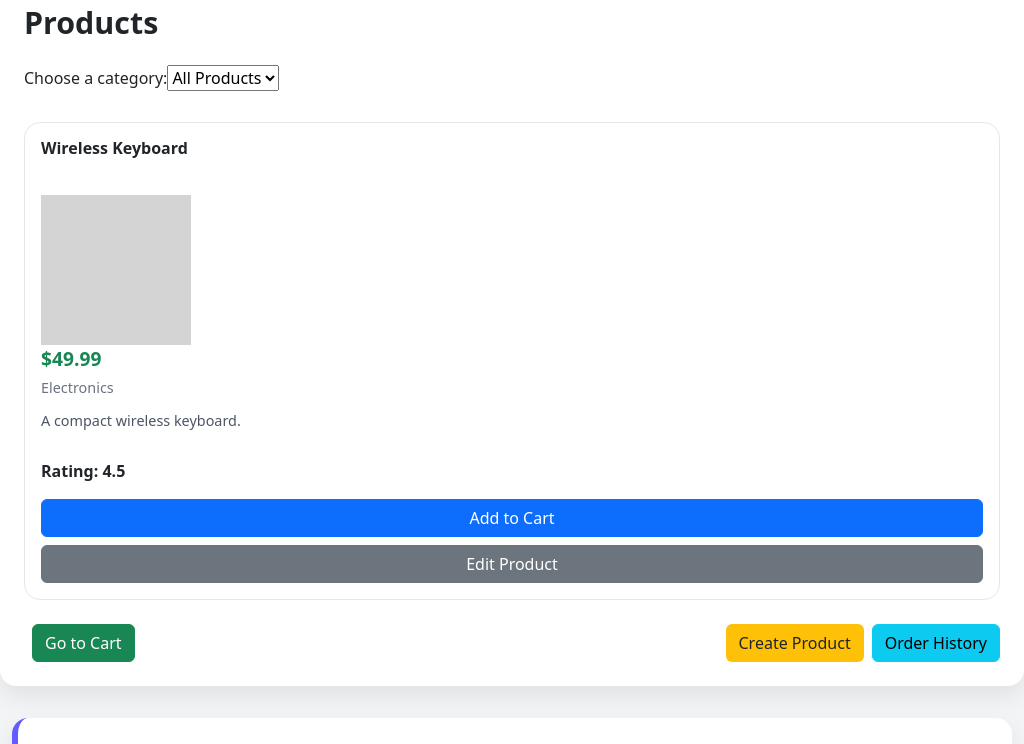
Test case: Cart integration › updates the cart when a product is added
The width and height of the screenshot is (1024, 744).
Click the button "Add to Cart" at (512, 518), box left=41, top=499, right=983, bottom=537
(page scrolled)
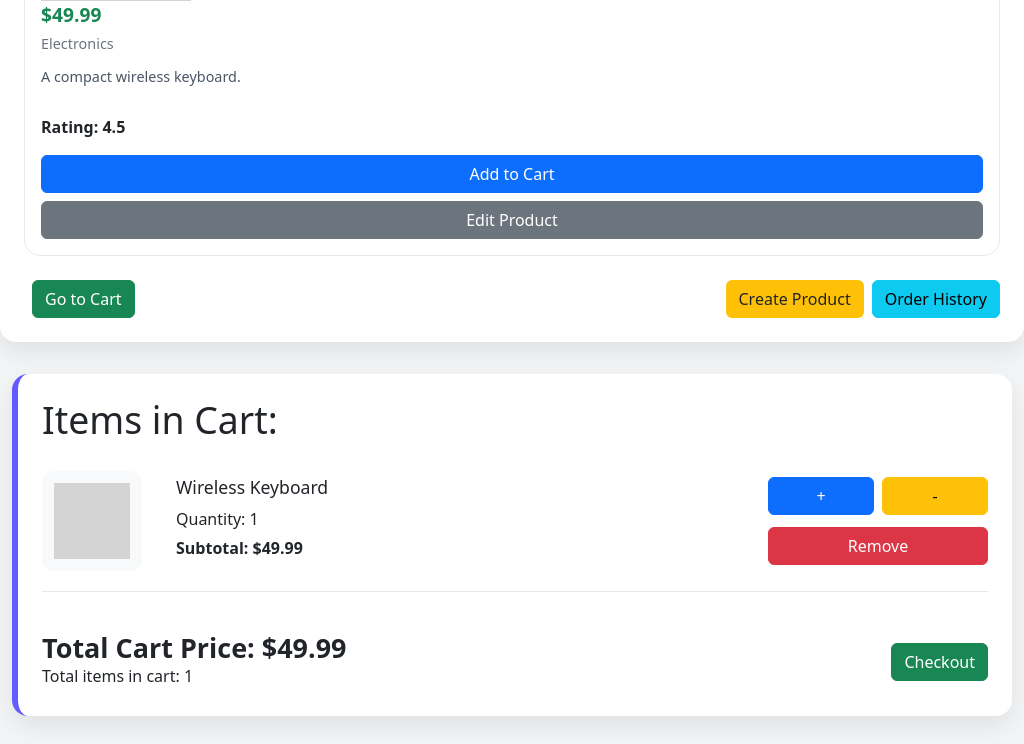
Expected: the heading "Items in Cart:" is shown, left=42, top=394, right=278, bottom=445
Expected: the text "Quantity: 1" is shown, left=176, top=508, right=259, bottom=530
